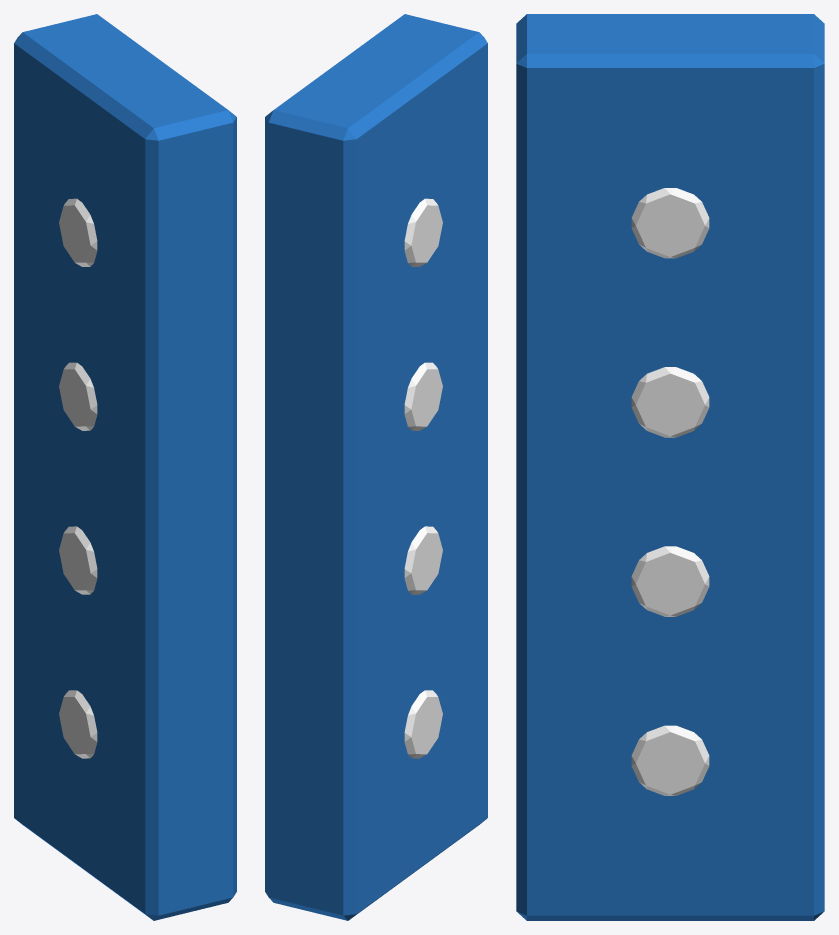
Rendered from domino_tall.glb.
The picture shows the model from 3 angles, left to right: view 1: azimuth 30°, elevation 25°; view 2: azimuth 150°, elevation 25°; view 3: azimuth 270°, elevation 25°; orthographic projection. The views are drawn at different scales.
Visible parts, largest first — view 1: domino_tall; view 2: domino_tall; view 3: domino_tall.
Part boxes in pixels (<box>): domino_tall: <box>14,14,236,920</box>; domino_tall: <box>265,14,487,920</box>; domino_tall: <box>516,14,824,920</box>.
Size of the model in its own units: 0.083 by 0.62 by 0.2.
